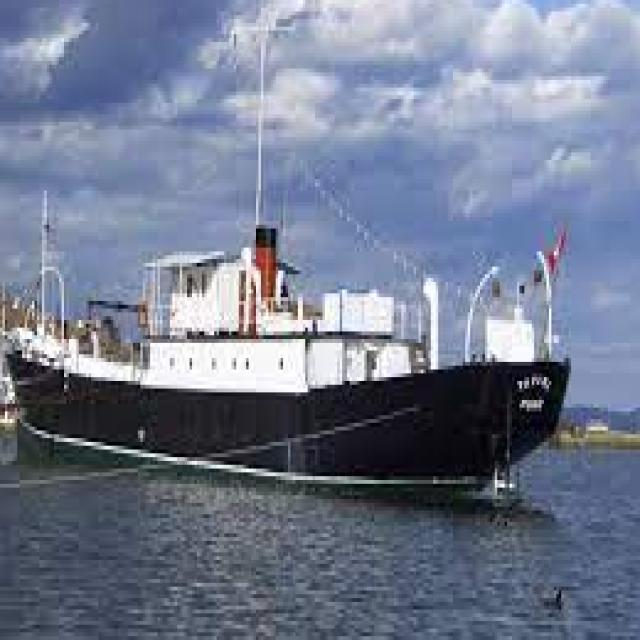houseboat: (1, 144, 584, 512)
